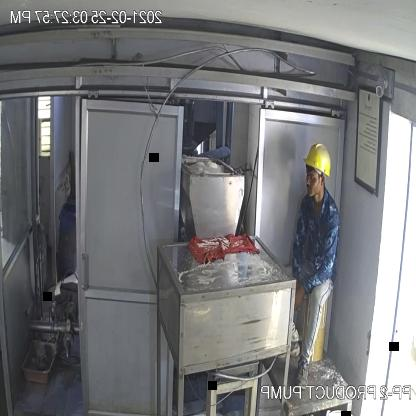helmet: (304, 139, 332, 179)
